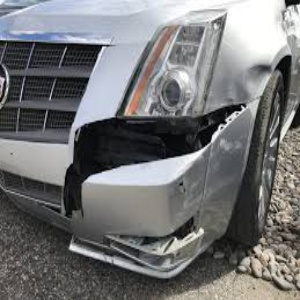bonnet: (71, 62, 187, 109)
bumper: (91, 182, 174, 287)
